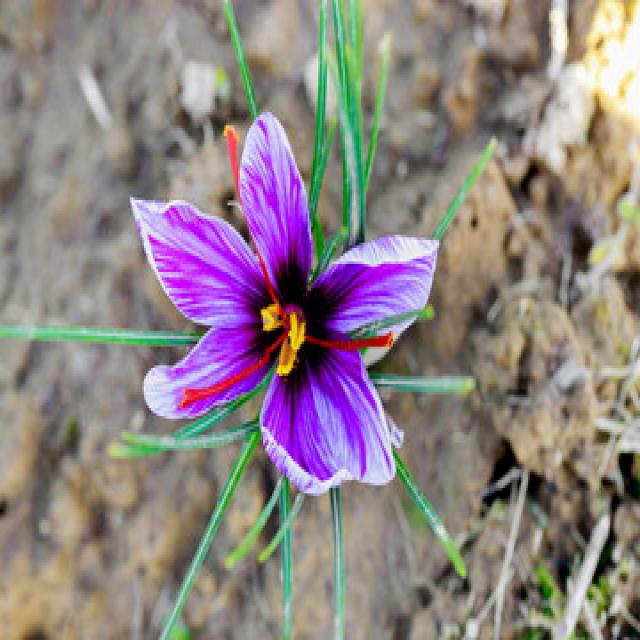saffron open: (133, 112, 436, 495)
